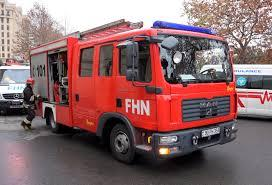Fire-engine: (22, 38, 240, 160)
